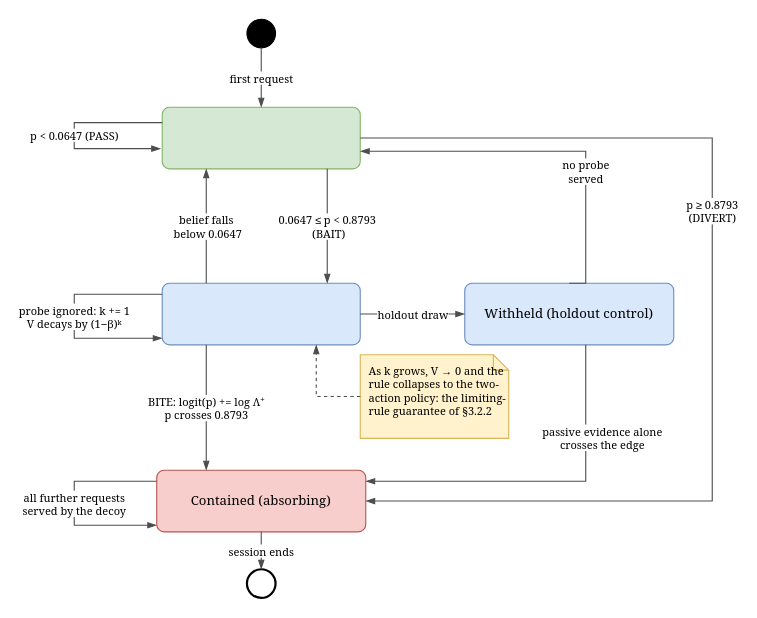
The diagram is 757 pixels wide and 618 high, and some of its shapes have lost their labels. Each missing label, with the centre of its shape:
Observed: the point at 260,137
Probed: the point at 260,313
